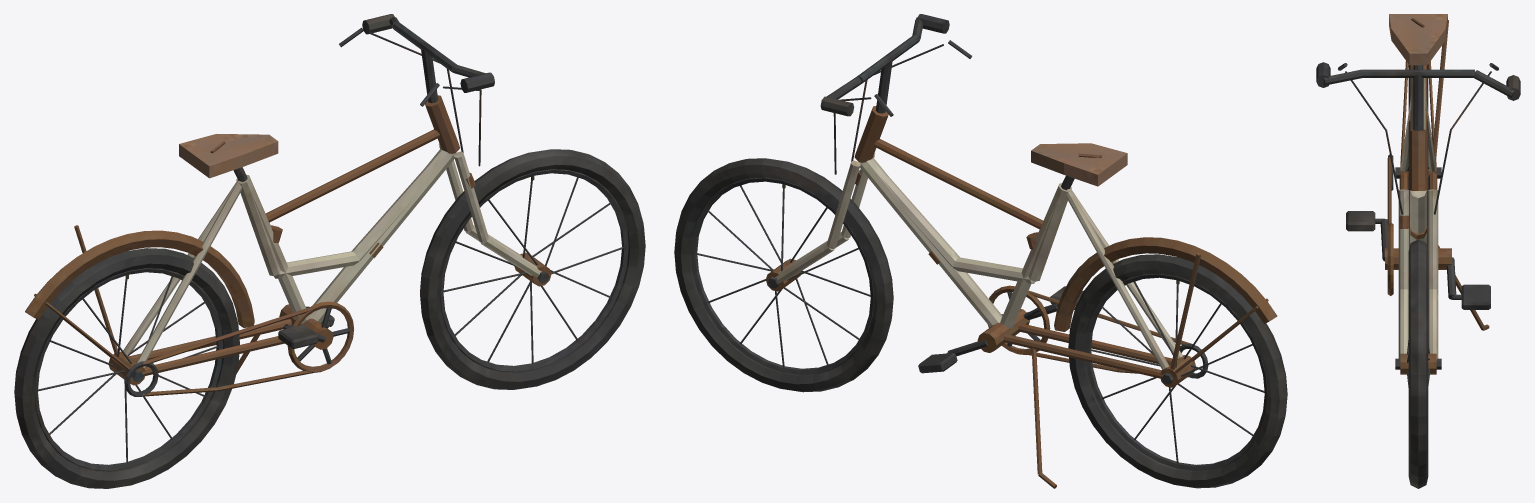
File: W20_old_bicycle_v2.glb
The picture shows the model from 3 angles, left to right: view 1: azimuth 30°, elevation 25°; view 2: azimuth 150°, elevation 25°; view 3: azimuth 270°, elevation 25°; orthographic projection. The views are drawn at different scales.
Parts seen in each view (by area): view 1: Cracked narrow tyre; view 2: Cracked narrow tyre; view 3: Cracked narrow tyre.
Part boxes in pixels (x1,y1,x2,y2): Cracked narrow tyre: (14, 14, 645, 488); Cracked narrow tyre: (674, 14, 1287, 488); Cracked narrow tyre: (1316, 14, 1520, 488).
Bounding box in the file's own units: 1.8 × 1.02 × 0.5234.
7 materials, 7 textured.
